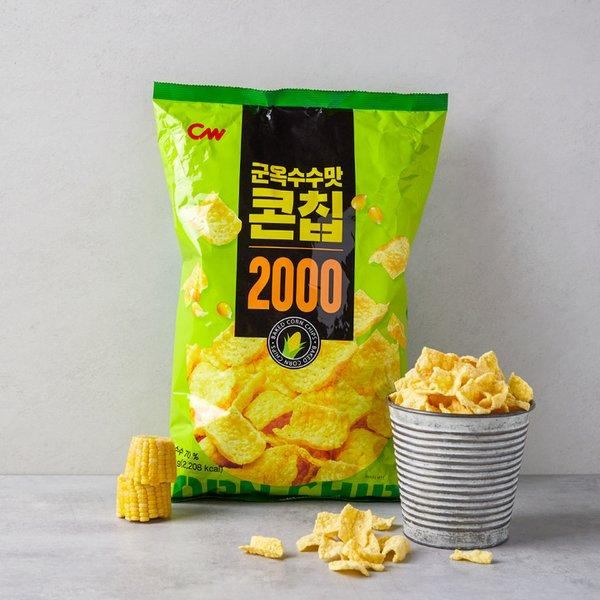snack: (151, 78, 449, 499)
